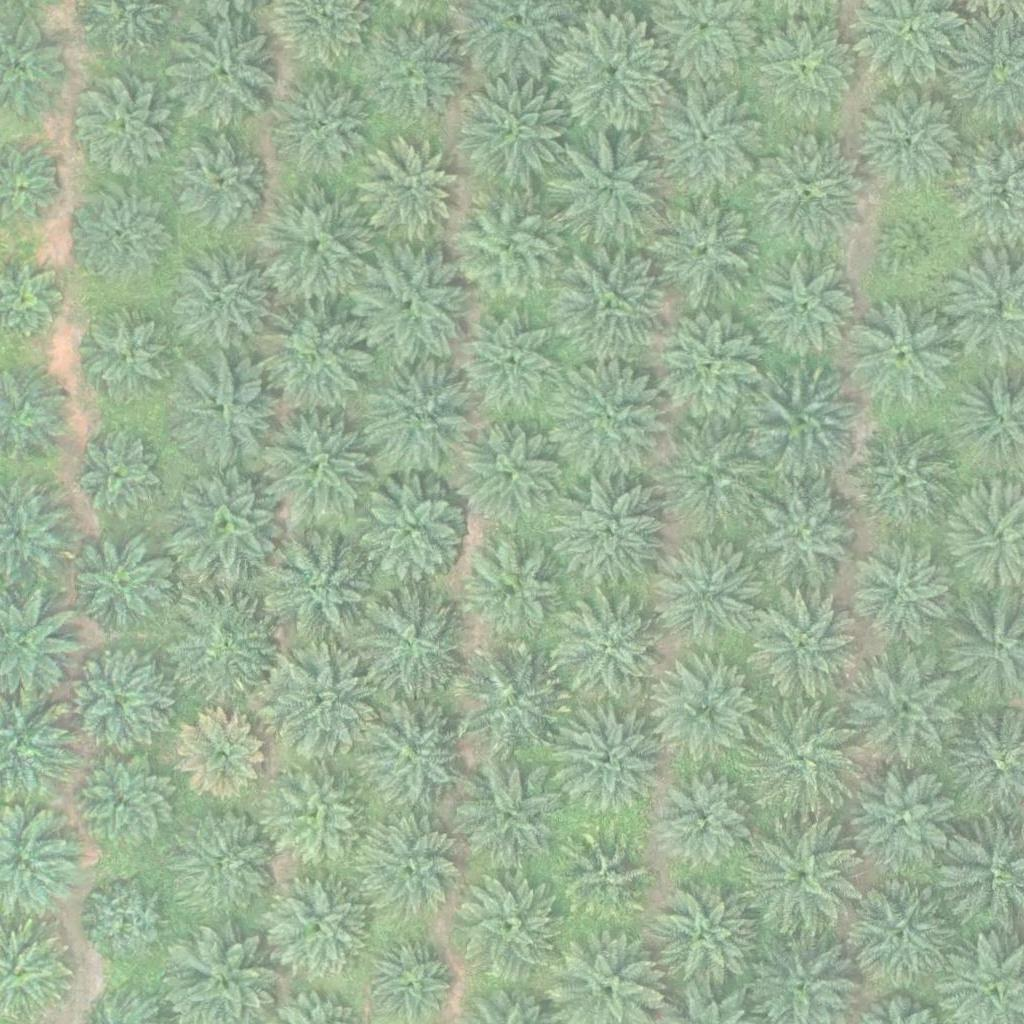Kelapa_Sawit: (450, 189, 563, 303), (555, 247, 668, 361), (555, 365, 668, 479), (654, 421, 767, 535), (655, 536, 768, 650), (557, 16, 670, 129), (554, 128, 667, 241), (456, 77, 569, 190), (165, 17, 278, 130), (163, 129, 276, 242), (164, 242, 277, 355), (170, 355, 283, 468), (170, 469, 283, 582), (260, 410, 373, 523), (262, 536, 375, 649), (265, 646, 378, 759), (551, 478, 664, 591), (558, 596, 671, 709), (651, 655, 764, 768), (847, 299, 960, 412), (844, 421, 957, 534), (746, 822, 859, 935), (648, 876, 761, 989), (357, 699, 470, 812), (656, 311, 768, 425), (748, 476, 860, 590), (747, 593, 859, 707), (850, 654, 962, 768), (753, 137, 865, 250), (656, 84, 768, 197), (359, 18, 471, 131), (171, 591, 283, 704), (256, 188, 368, 301), (259, 304, 371, 417), (358, 248, 470, 361), (364, 360, 476, 473), (358, 472, 470, 585), (353, 585, 465, 698), (457, 415, 569, 528), (454, 645, 566, 758), (650, 193, 762, 306), (748, 369, 860, 482), (742, 702, 854, 815), (845, 881, 957, 994), (451, 871, 563, 984), (847, 766, 959, 879), (551, 699, 663, 812), (455, 758, 567, 871), (362, 137, 462, 238), (275, 75, 375, 176), (76, 311, 176, 412), (69, 534, 169, 635), (466, 538, 566, 639), (758, 258, 858, 359), (359, 813, 459, 914), (270, 764, 370, 865), (77, 750, 177, 851), (179, 810, 279, 911), (863, 90, 963, 190), (756, 21, 856, 121), (73, 81, 173, 181), (73, 185, 173, 285), (69, 650, 169, 750), (461, 316, 561, 416), (853, 541, 953, 641), (269, 876, 369, 976), (562, 833, 650, 922), (73, 430, 161, 518), (177, 711, 265, 799), (663, 776, 750, 864), (85, 878, 172, 966), (884, 215, 946, 278)
